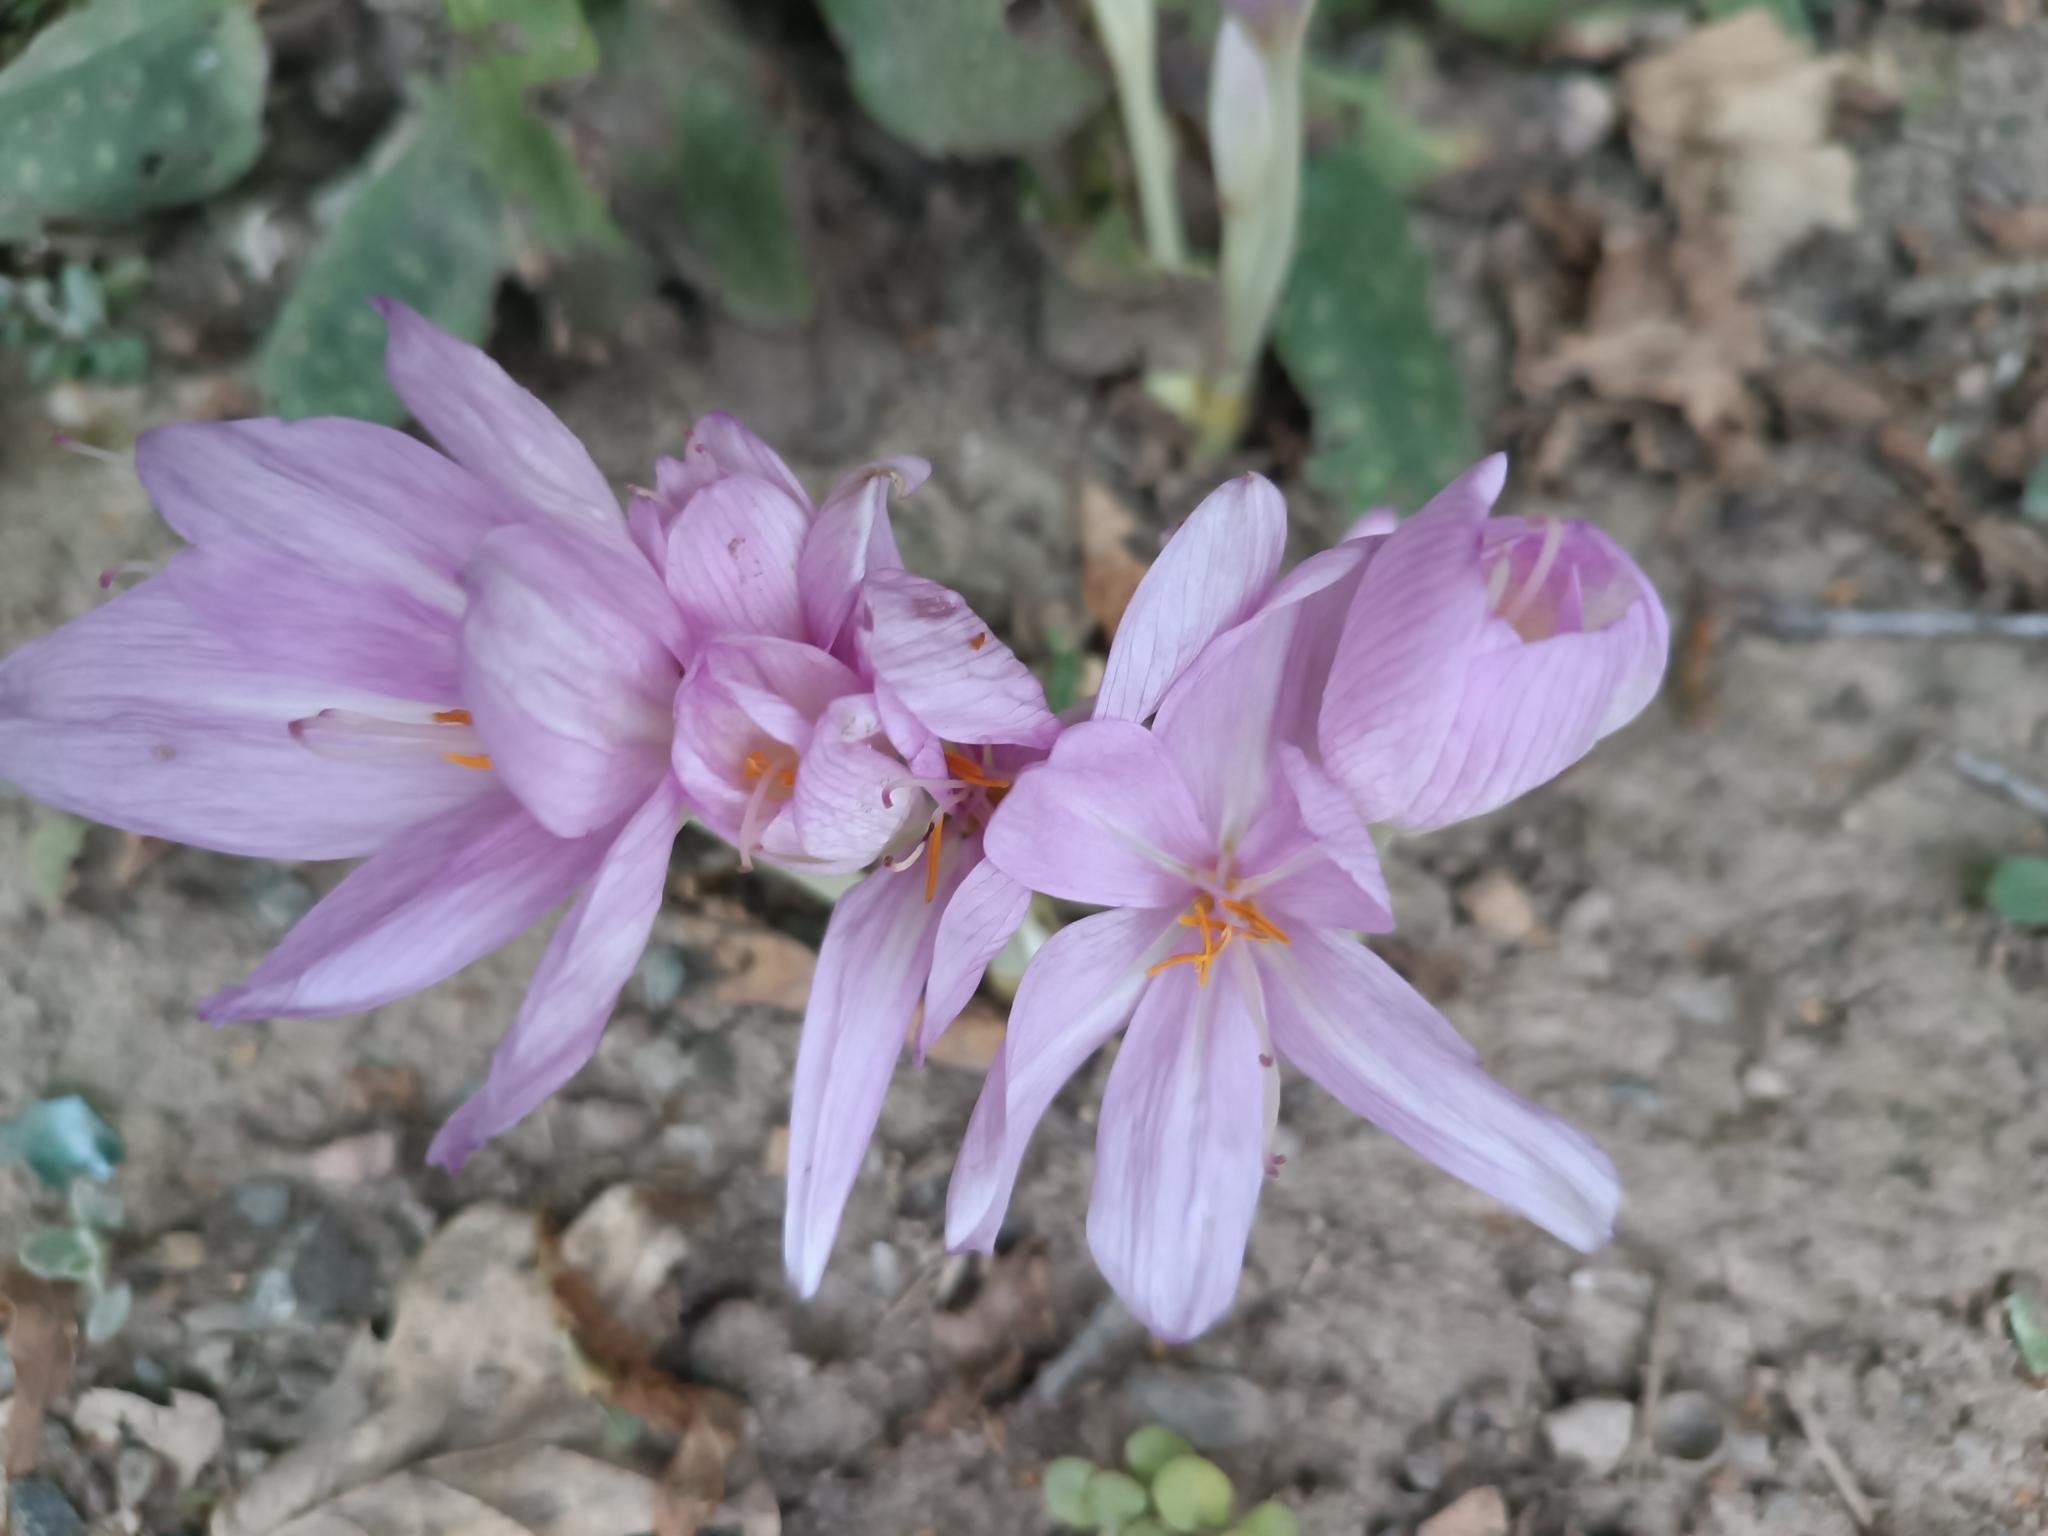Colchicum autumnale L: (0, 261, 1725, 1352)
